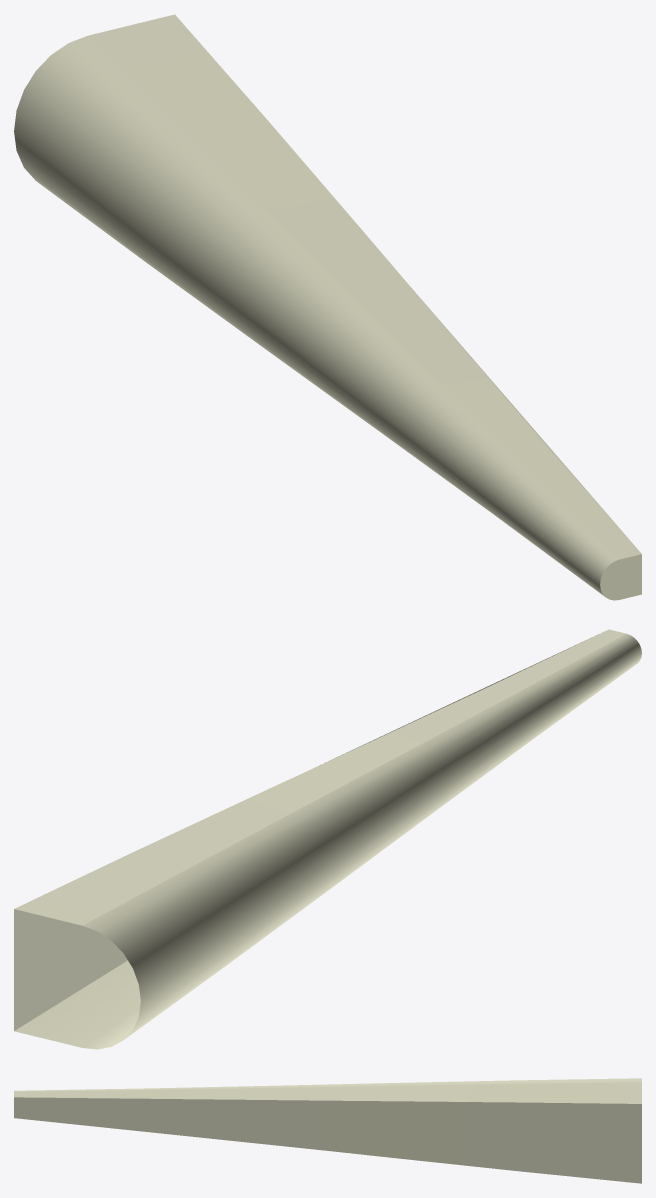
File: original-65.obj
3 renders of one model, top to bottom at view 1: azimuth 30°, elevation 25°; view 2: azimuth 150°, elevation 25°; view 3: azimuth 270°, elevation 25°, orthographic. The views are drawn at different scales.
Parts seen in each view (by area): view 1: #ID342; view 2: #ID342; view 3: #ID342.
Part boxes in pixels (box(x1,y1,x2,y2)): #ID342: box(14, 14, 641, 600); #ID342: box(14, 629, 641, 1049); #ID342: box(14, 1078, 641, 1183).
Bounding box in the file's own units: 0.0702 × 0.056 × 0.3998.
